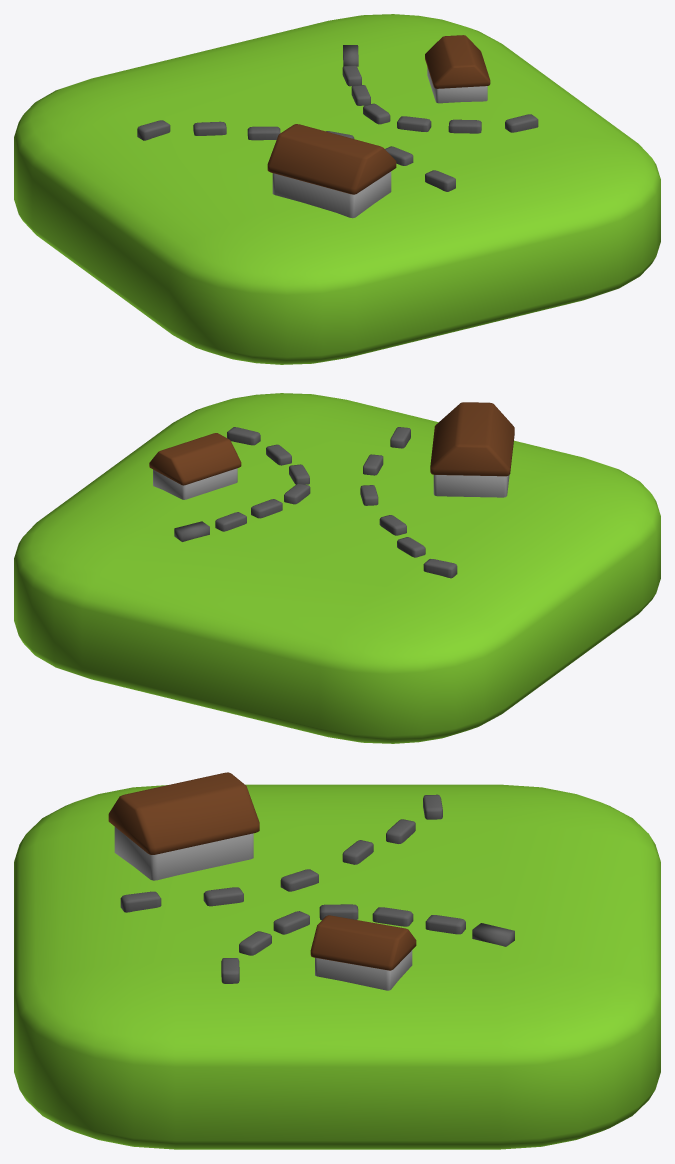
The model's file is village-tile-01.dae.
3 views of the same model, one above another, from view 1: azimuth 30°, elevation 25°; view 2: azimuth 150°, elevation 25°; view 3: azimuth 270°, elevation 25° (orthographic). The views are drawn at different scales.
Parts seen in each view (by area): view 1: Base, Roof, Roof.001, House, House.001; view 2: Base, Roof, Roof.001, House, House.001, Cube; view 3: Base, Roof, Roof.001, House, House.001, Cube, Cube.008, Cube.002, Cube.009, Cube.001, Cube.010, Cube.004 (+2 smaller).
Boxes of the visible parts, x1,y1,x2,y2 form: Base: [14, 14, 660, 364]; Roof: [267, 124, 396, 194]; Roof.001: [425, 35, 490, 88]; House: [272, 171, 391, 218]; House.001: [427, 67, 487, 103]; Base: [14, 393, 660, 743]; Roof: [430, 402, 514, 476]; Roof.001: [149, 433, 241, 485]; House: [433, 475, 509, 497]; House.001: [153, 468, 237, 499]; Cube: [174, 521, 209, 541]; Base: [14, 784, 660, 1149]; Roof: [108, 772, 259, 854]; Roof.001: [310, 915, 416, 970]; House: [114, 827, 253, 880]; House.001: [315, 950, 412, 990]; Cube: [472, 923, 514, 946]; Cube.008: [120, 891, 161, 912]; Cube.002: [372, 907, 413, 926]; Cube.009: [203, 887, 243, 906]; Cube.001: [425, 915, 465, 934]; Cube.010: [280, 869, 318, 891]; Cube.004: [273, 911, 309, 934].
Bounding box in the file's own units: 2 × 2 × 0.7117.
